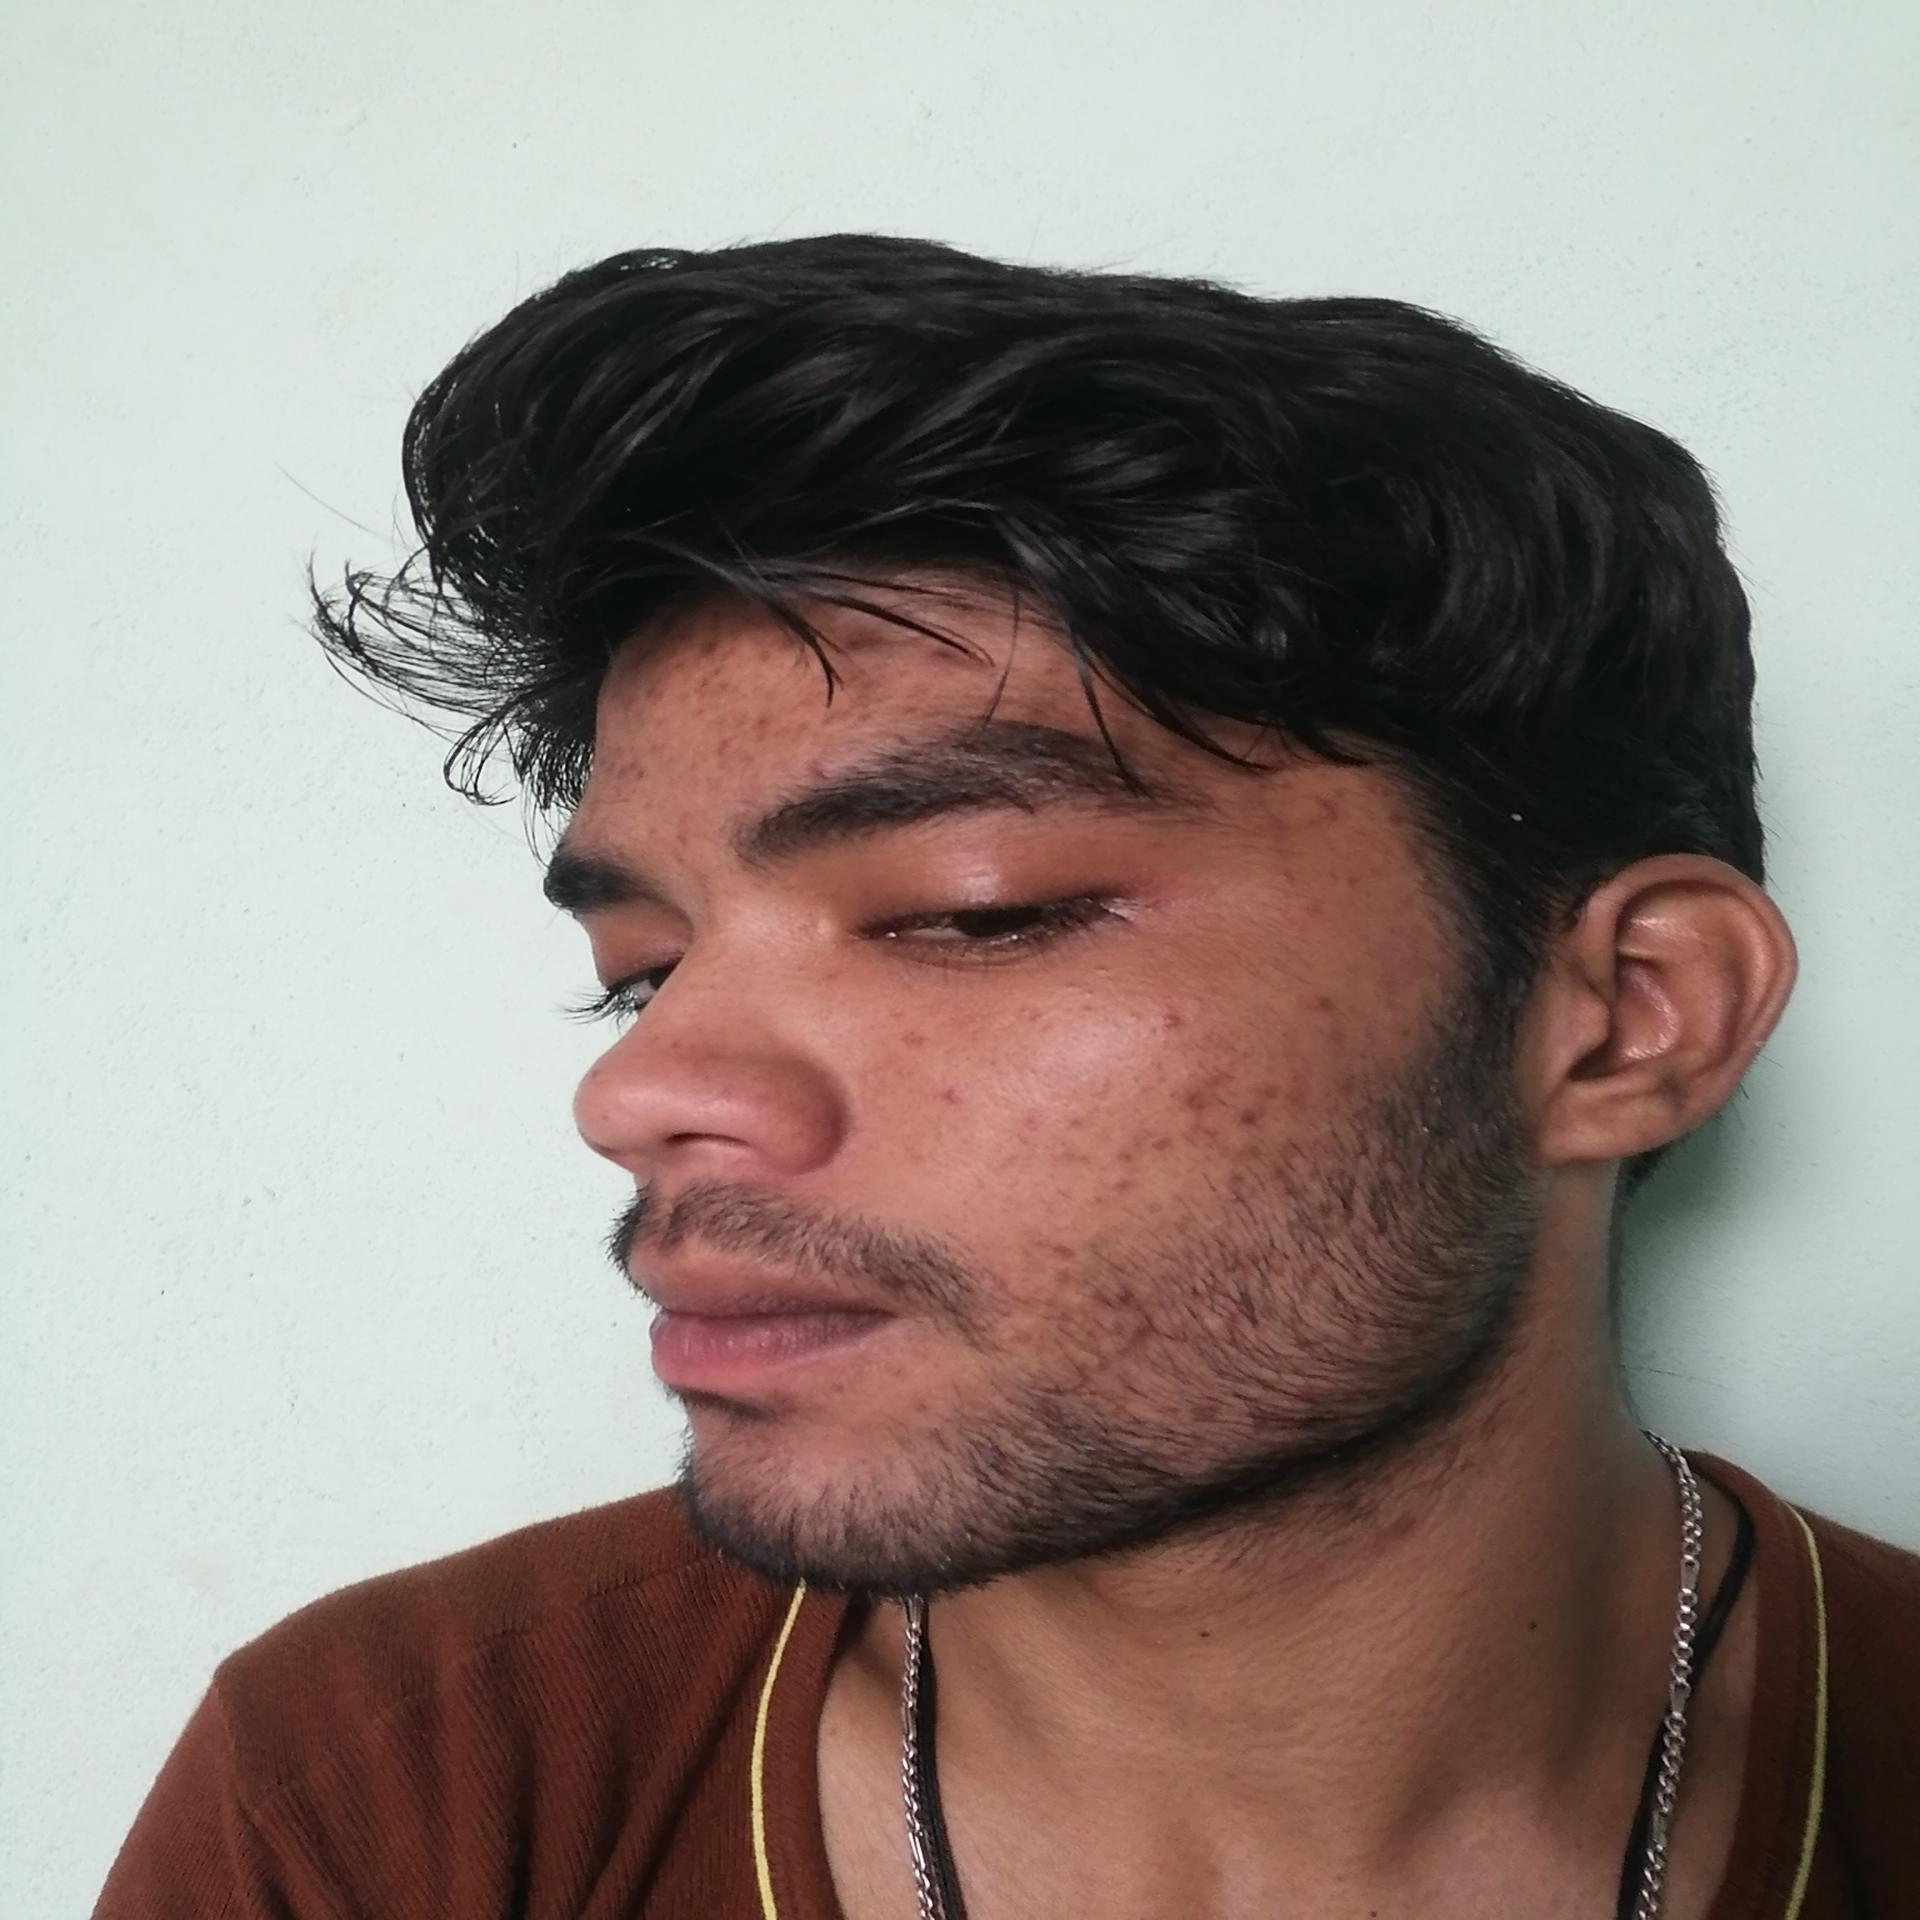Acne: (1220, 1069, 1308, 1132), (695, 705, 774, 774), (672, 636, 767, 693), (1303, 791, 1382, 847), (1115, 1136, 1194, 1183), (600, 756, 687, 798), (1060, 1090, 1118, 1150), (638, 811, 705, 862), (1289, 993, 1361, 1034), (979, 1153, 1051, 1194), (1266, 867, 1320, 920), (1326, 867, 1384, 911), (1036, 1234, 1092, 1278), (608, 689, 672, 728), (1139, 1006, 1199, 1044), (1164, 1085, 1218, 1127), (807, 1371, 865, 1410), (784, 742, 840, 781), (802, 962, 851, 1000), (1018, 1006, 1069, 1039), (942, 1081, 979, 1127), (1006, 1108, 1051, 1145), (893, 1023, 923, 1058)
Englarged Pores: (935, 1036, 1153, 1116)
